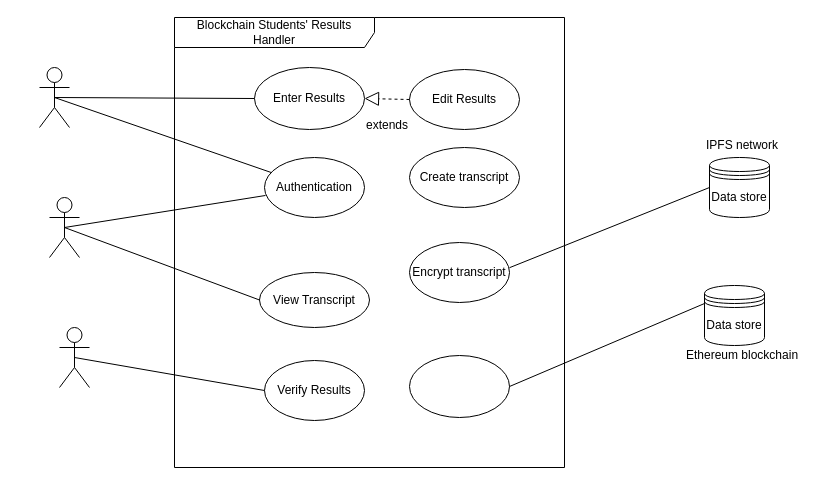
Image size: 832x485. Some labels were removed from this diagram. The centre of each missing label's shape, as x and y in pixels:
Academic Registrar: point 74,357
Administrative Assistant: point 54,97
Store Encrypted transcript: point 459,386
Student: point 64,227
